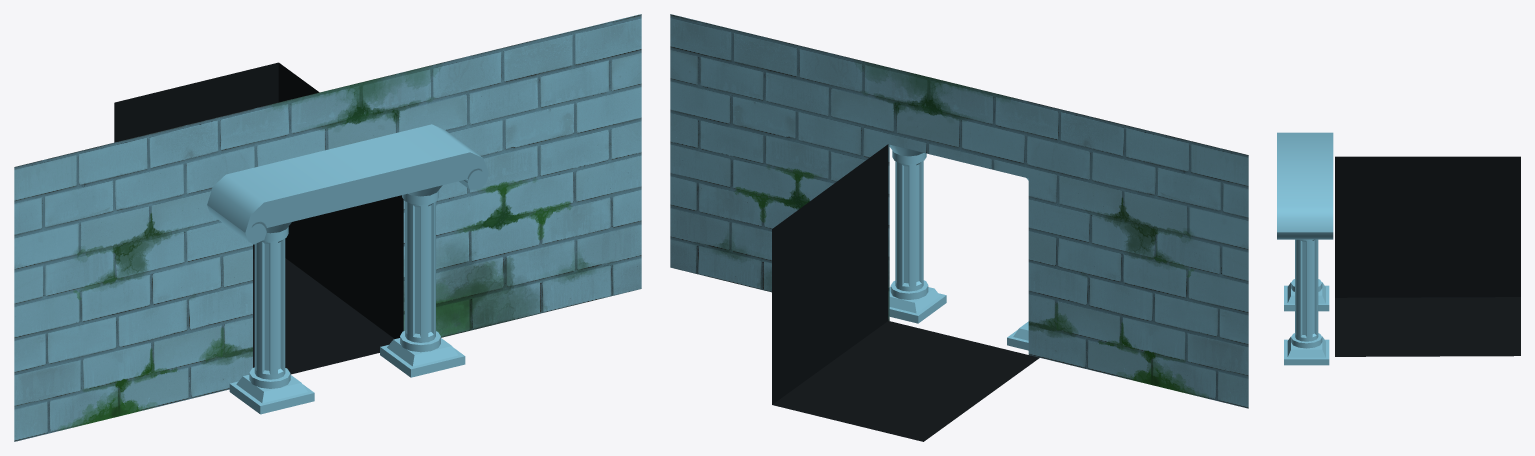
The model's file is 2_door.fbx.
The picture shows the model from 3 angles, left to right: view 1: azimuth 30°, elevation 25°; view 2: azimuth 150°, elevation 25°; view 3: azimuth 270°, elevation 25°; orthographic projection. The views are drawn at different scales.
Parts seen in each view (by area): view 1: 2_door; view 2: 2_door; view 3: 2_door.
Part boxes in pixels (left/top/right/bottom): 2_door: left=14, top=14, right=641, bottom=441; 2_door: left=670, top=14, right=1248, bottom=441; 2_door: left=1277, top=132, right=1520, bottom=365.
Size of the model in its own units: 354 by 162 by 148.
Materials: 1 (1 with a texture image).
